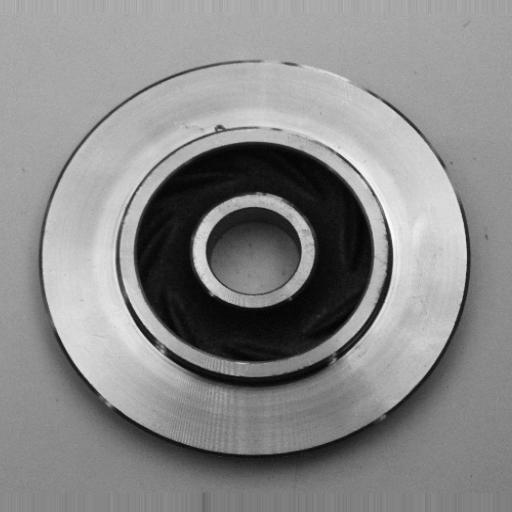crack: (205, 116, 236, 142)
scratch: (269, 50, 371, 100)
unpolished_casting: (35, 56, 470, 460)
